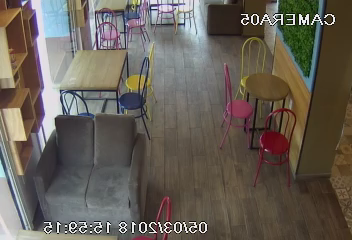libre: (53, 25, 158, 128), (220, 43, 300, 164), (79, 1, 156, 48)
